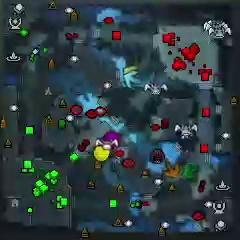p3: (101, 131, 123, 146)
p4: (94, 145, 112, 162)
x2: (123, 64, 139, 75)
x3: (124, 70, 144, 89)
x4: (182, 161, 199, 180)
x5: (163, 160, 179, 178)
